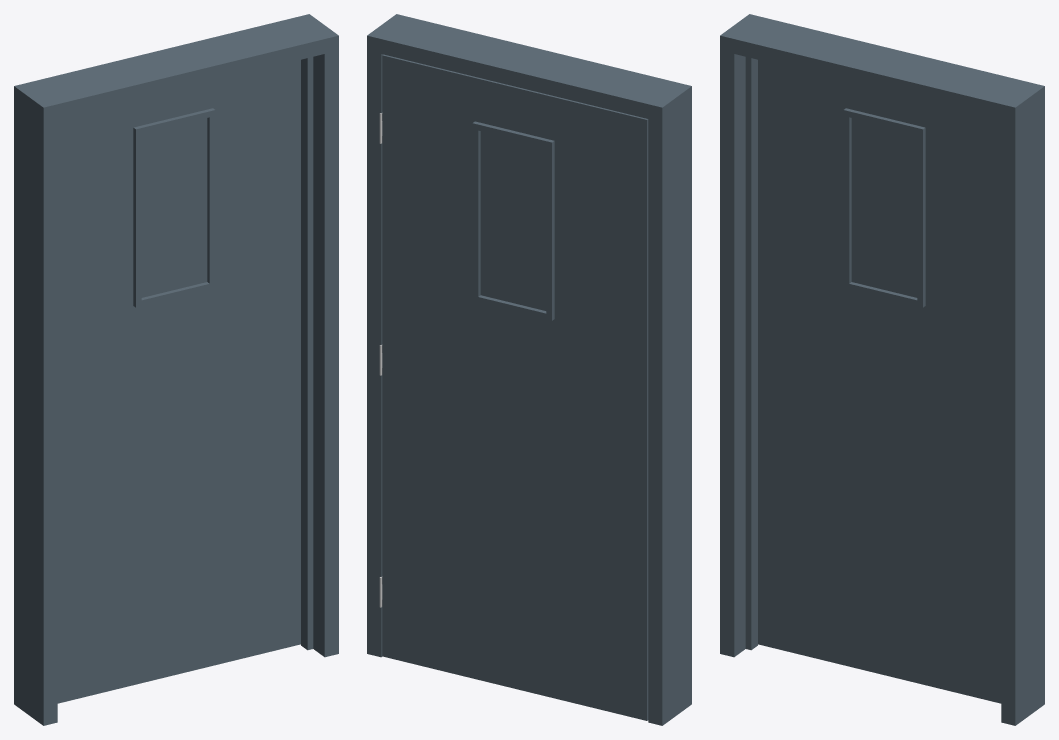
Rendered from sgc_door_single_meshes.fbx.
3 views of the same model, side by side, from view 1: azimuth 30°, elevation 25°; view 2: azimuth 150°, elevation 25°; view 3: azimuth 330°, elevation 25° (orthographic).
Visible parts, largest first — view 1: Door Single, Door Frame Single, Door Single Windowed; view 2: Door Single, Door Frame Single, Door Single Windowed; view 3: Door Single, Door Frame Single, Door Single Windowed.
Part boxes in pixels (<box>): Door Single: <box>57,60,300,703</box>; Door Frame Single: <box>14,14,338,725</box>; Door Single Windowed: <box>133,108,215,307</box>; Door Single: <box>382,54,648,720</box>; Door Frame Single: <box>367,14,691,725</box>; Door Single Windowed: <box>472,121,554,320</box>; Door Single: <box>758,60,1001,703</box>; Door Frame Single: <box>720,14,1044,725</box>; Door Single Windowed: <box>843,108,925,307</box>.
Bounding box in the file's own units: 0.2477 × 1.32 × 2.64.
